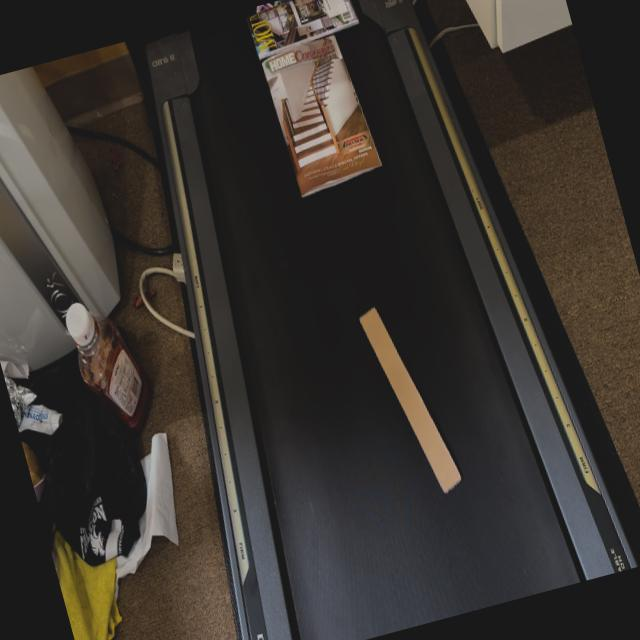Recycle: (350, 294, 469, 510), (258, 34, 389, 202), (240, 0, 363, 53)
